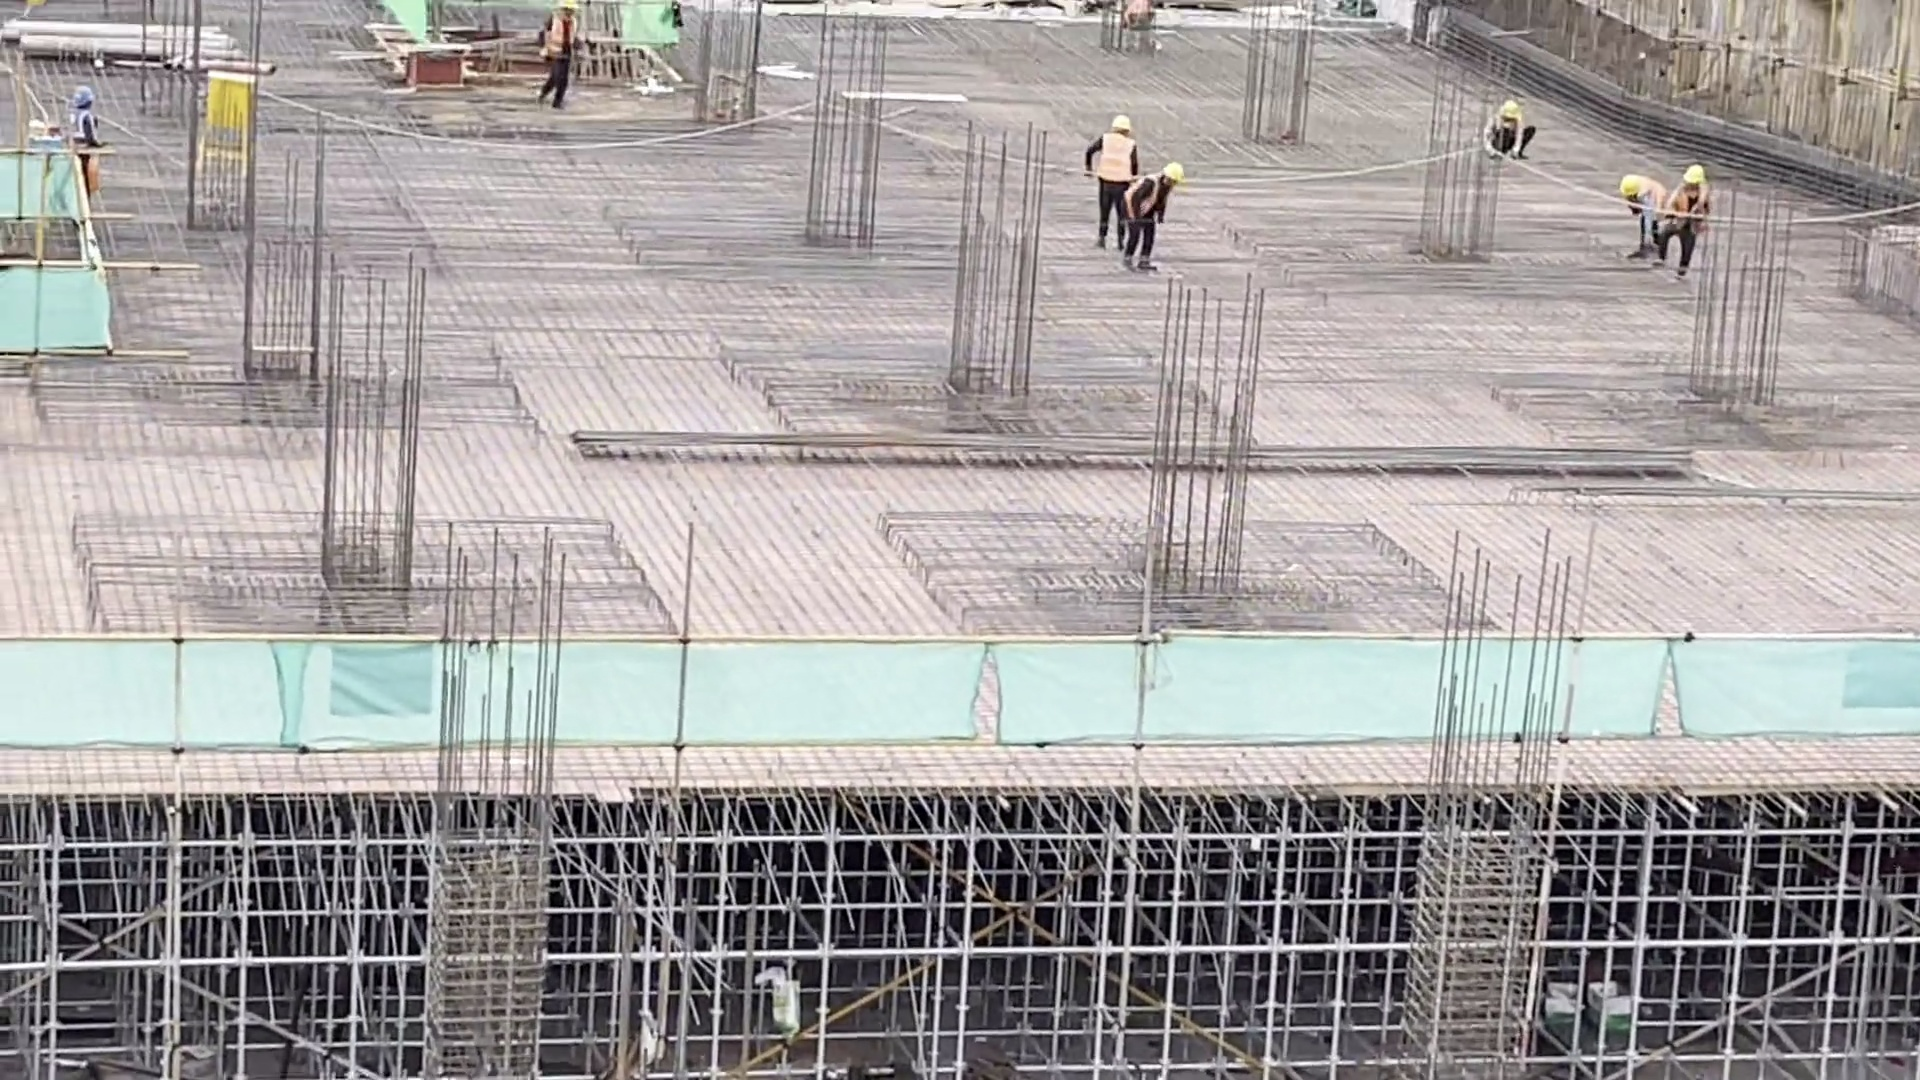helmet: (1679, 155, 1708, 185), (1163, 158, 1188, 184), (1620, 171, 1645, 195), (1496, 97, 1525, 118), (71, 88, 98, 108), (1113, 115, 1135, 133)
person: (1653, 149, 1718, 279), (1123, 157, 1182, 278), (1085, 105, 1135, 245), (536, 2, 592, 117), (1616, 171, 1665, 282), (1473, 95, 1541, 162), (69, 87, 106, 181)
vest: (545, 13, 576, 67), (1100, 131, 1130, 184), (1674, 190, 1707, 229), (1129, 174, 1157, 217)
